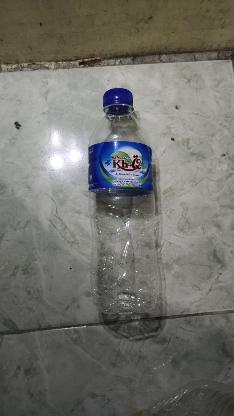Plastic Bottle: (87, 87, 166, 341)
